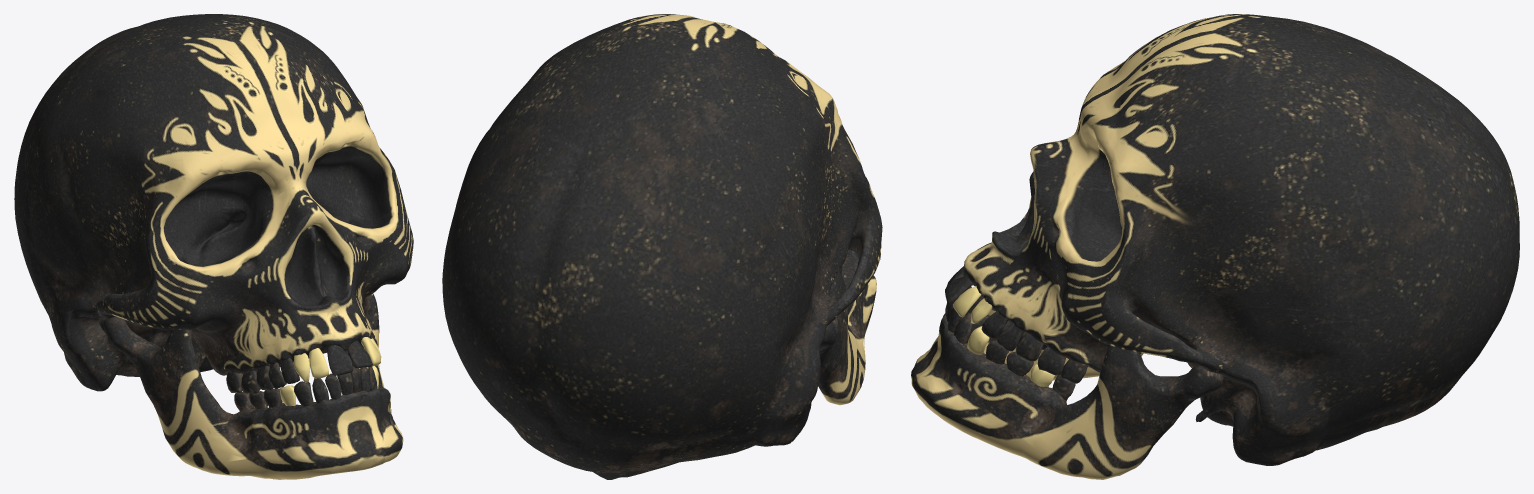
Rendered from skull-draco.glb.
3 renders of one model, left to right at view 1: azimuth 30°, elevation 25°; view 2: azimuth 150°, elevation 25°; view 3: azimuth 270°, elevation 25°, orthographic. The views are drawn at different scales.
Visible parts, largest first — view 1: Group5732_001; view 2: Group5732_001; view 3: Group5732_001.
Part boxes in pixels (x1=…): Group5732_001: x1=14, y1=14, x2=413, y2=479; Group5732_001: x1=442, y1=14, x2=882, y2=479; Group5732_001: x1=911, y1=14, x2=1519, y2=479.
Bounding box in the file's own units: 1.22 × 1.46 × 2.
2 materials, 2 textured.
